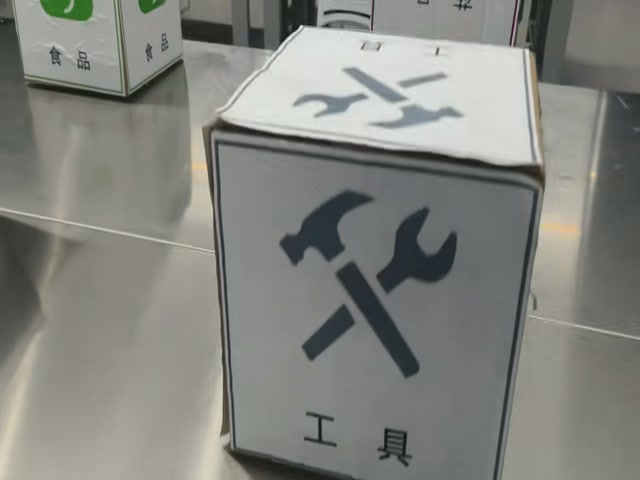Cube_tool: (206, 28, 542, 170)
